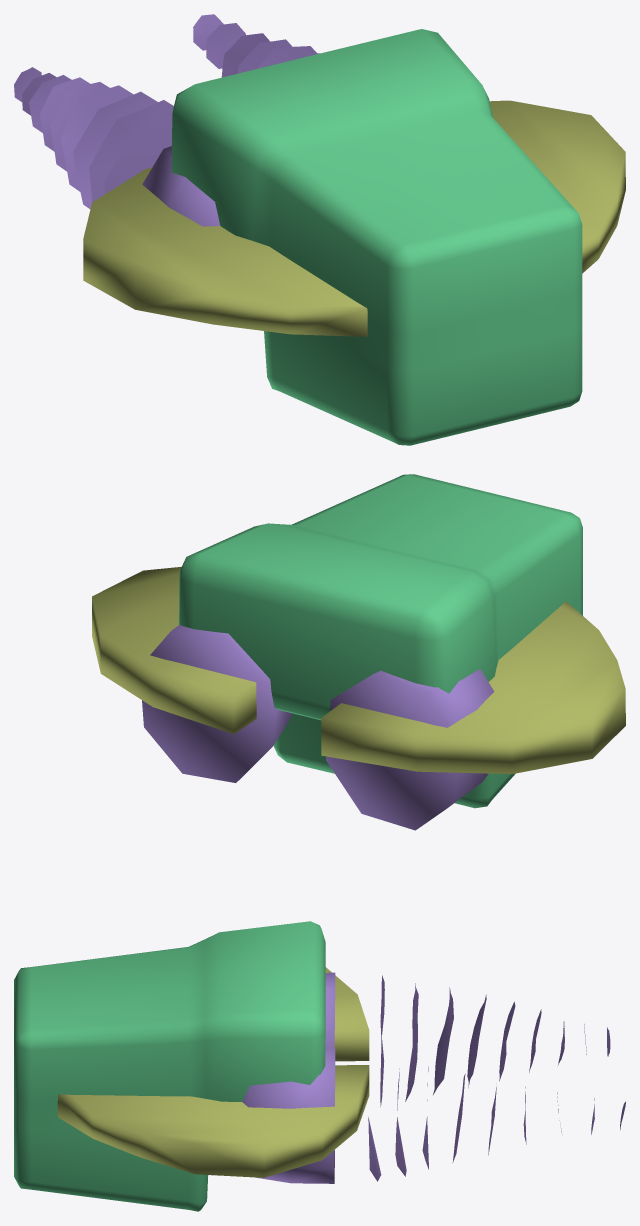
The model's file is ship_4.gltf.
3 renders of one model, top to bottom at view 1: azimuth 30°, elevation 25°; view 2: azimuth 150°, elevation 25°; view 3: azimuth 270°, elevation 25°, orthographic. The views are drawn at different scales.
Parts seen in each view (by area): view 1: gtlf; view 2: gtlf; view 3: gtlf.
Part boxes in pixels (box(x1,y1,x2,y2)): gtlf: box(14, 14, 625, 445); gtlf: box(92, 474, 625, 830); gtlf: box(14, 921, 625, 1211).
Size of the model in its own units: 1.82 by 0.8876 by 2.37.
